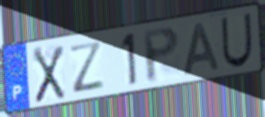1: (120, 30, 139, 89)
A: (181, 20, 221, 78)
P: (141, 25, 181, 85)
U: (219, 11, 254, 70)
X: (31, 43, 67, 105)
Z: (67, 38, 106, 95)
